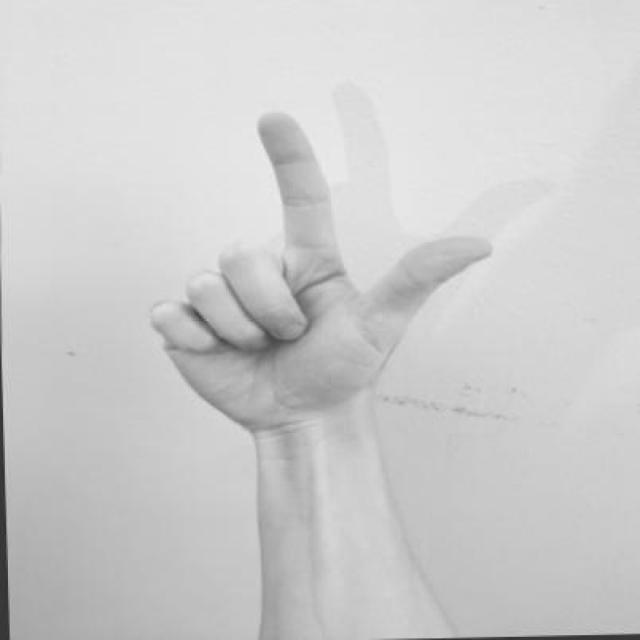L: (132, 99, 510, 444)
